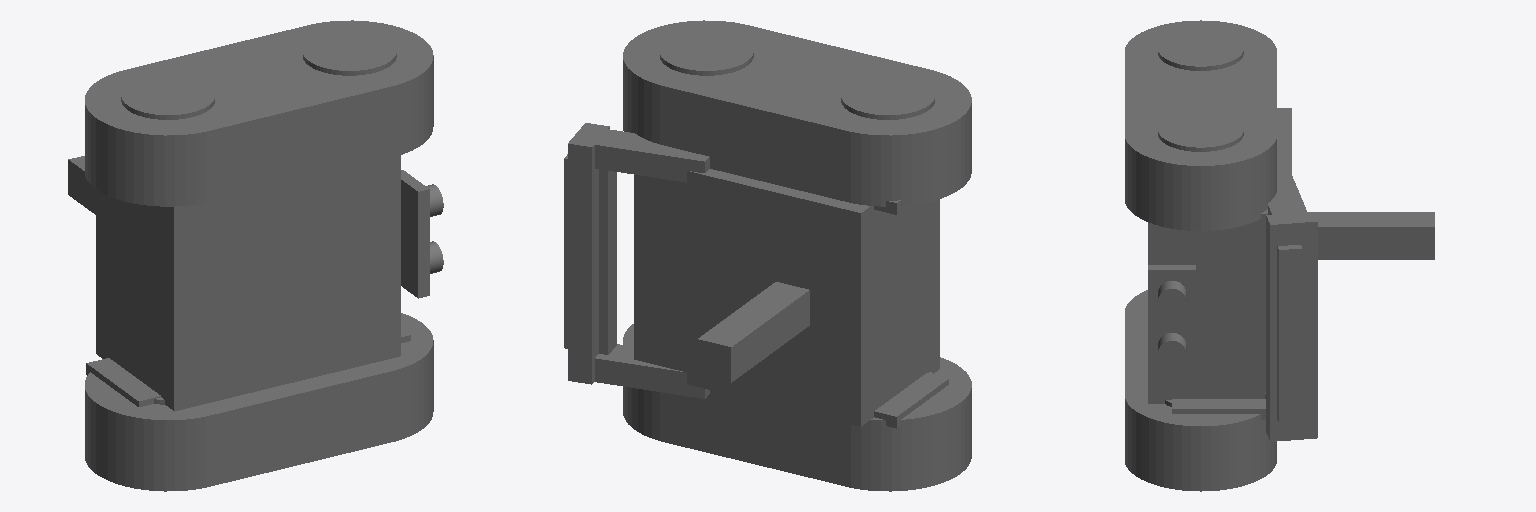
The robot description file, URDF, robot "tracked_robot":
<?xml version="1.0"?>
<robot name="tracked_robot">

  <!-- ==============================
       BASE LINK
       ============================== -->
  <link name="base_link">
    <visual>
      <origin xyz="0 0 0.10" rpy="-1.5708 0 0"/>
      <geometry>
        <mesh filename="package://robopy_controller/urdf/Marcus.stl" scale="0.001 0.001 0.001"/>
      </geometry>
      <material name="gray">
        <color rgba="0.5 0.5 0.5 1"/>
      </material>
    </visual>

    <collision>
      <origin xyz="0 0 0.10" rpy="0 0 0"/>
      <geometry>
        <box size="0.20 0.20 0.15"/>
      </geometry>
    </collision>

    <inertial>
      <origin xyz="0 0 0.10" rpy="0 0 0"/>
      <mass value="5.0"/>
      <inertia
        ixx="0.052" iyy="0.052" izz="0.052"
        ixy="0" ixz="0" iyz="0"/>
    </inertial>
  </link>

  <!-- ==============================
       TRACKS
       ============================== -->
  <link name="left_track"/>
  <link name="right_track"/>

  <joint name="left_track_joint" type="fixed">
    <parent link="base_link"/>
    <child link="left_track"/>
    <origin xyz="0 0.08 0.05" rpy="0 0 0"/>
  </joint>

  <joint name="right_track_joint" type="fixed">
    <parent link="base_link"/>
    <child link="right_track"/>
    <origin xyz="0 -0.08 0.05" rpy="0 0 0"/>
  </joint>

  <!-- ==============================
       IMU (LOGICA, NON depthai)
       ============================== -->
  <link name="imu_link"/>

  <joint name="imu_joint" type="fixed">
    <parent link="base_link"/>
    <child link="imu_link"/>
    <origin xyz="0.10 0.0 0.15" rpy="0 0 0"/>
  </joint>

  <!-- ==============================
       ULTRASONIC
       ============================== -->
  <link name="ultrasonic_link"/>

  <joint name="ultrasonic_joint" type="fixed">
    <parent link="base_link"/>
    <child link="ultrasonic_link"/>
    <origin xyz="0.10 0.0 0.05" rpy="1.5708 0 0"/>
  </joint>

  <!-- ==============================
       OAK-D MOUNT (SOLO MECCANICO)
       ============================== -->
  <link name="oak_mount_link"/>

  <joint name="oak_mount_joint" type="fixed">
    <parent link="base_link"/>
    <child link="oak_mount_link"/>
    <!-- posizione e inclinazione REALI della OAK -->
    <!-- pitch -30° = -0.5236 -->
    <origin xyz="0.10 0.0 0.15" rpy="0 -0.1535 0"/>

  </joint>

</robot>

--- What the picture shows (computed from the rendered views, not written in the file) ---
Views: 3 orthographic renders of the robot side by side, from view 1: azimuth 30°, elevation 25°; view 2: azimuth 150°, elevation 25°; view 3: azimuth 270°, elevation 25°.
Robot: tracked_robot — 6 links, 5 joints (5 fixed); root link base_link; default pose: every joint at zero.
Visible links, largest first — view 1: base_link; view 2: base_link; view 3: base_link.
Link boxes in pixels (x1,y1,x2,y2): base_link: [68, 20, 443, 491]; base_link: [564, 20, 971, 491]; base_link: [1125, 20, 1434, 491].
Bounding box of the posed robot: 0.1521 × 0.1299 × 0.152 m (x, y, z).
Meshes: 1 distinct files referenced, 1 mesh visuals loaded (1 binary STL).
